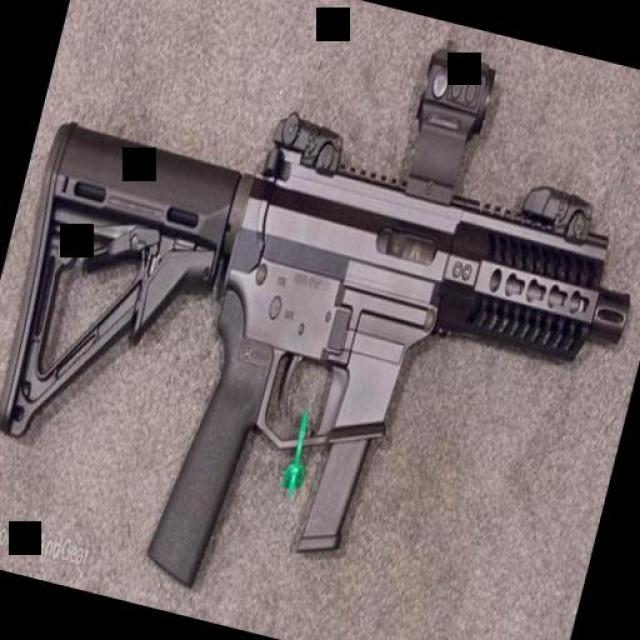gun: (131, 92, 640, 640)
